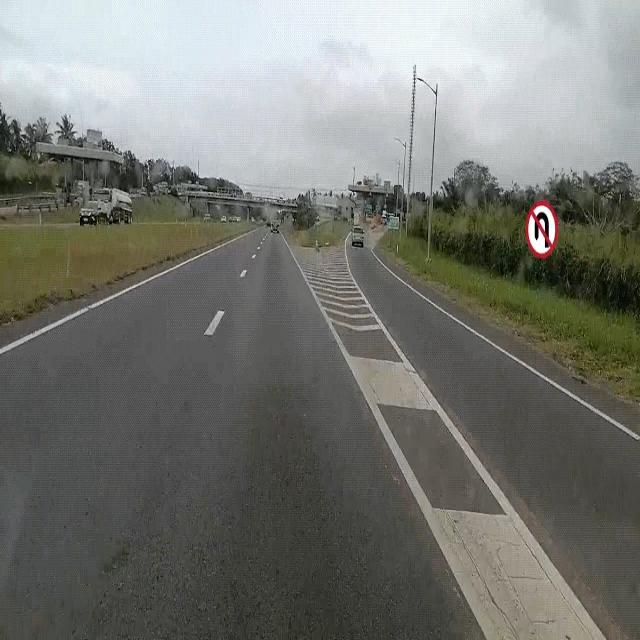Demi-Tour-Interdit: (525, 191, 561, 264)
